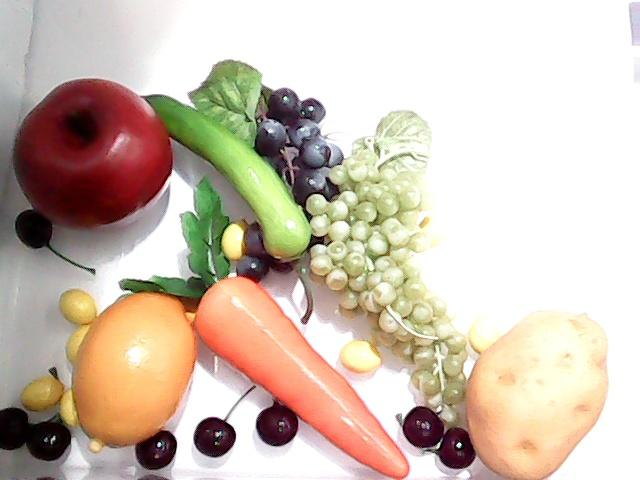apple: (10, 73, 176, 229)
carrot: (118, 178, 410, 480)
grape: (308, 162, 464, 399), (228, 92, 329, 284)
lemon: (68, 290, 204, 456)
pepper: (125, 89, 342, 263)
potato: (463, 310, 609, 478)
